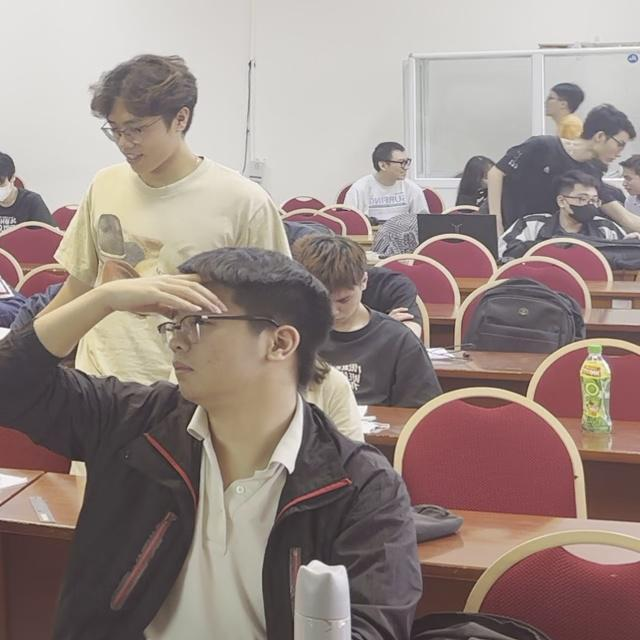Looking away: (89, 64, 201, 219), (313, 236, 368, 336), (582, 97, 639, 176), (560, 170, 607, 237), (534, 79, 579, 140), (367, 146, 425, 191), (464, 153, 501, 212), (618, 150, 640, 211)
Looking forward: (163, 239, 316, 416)
